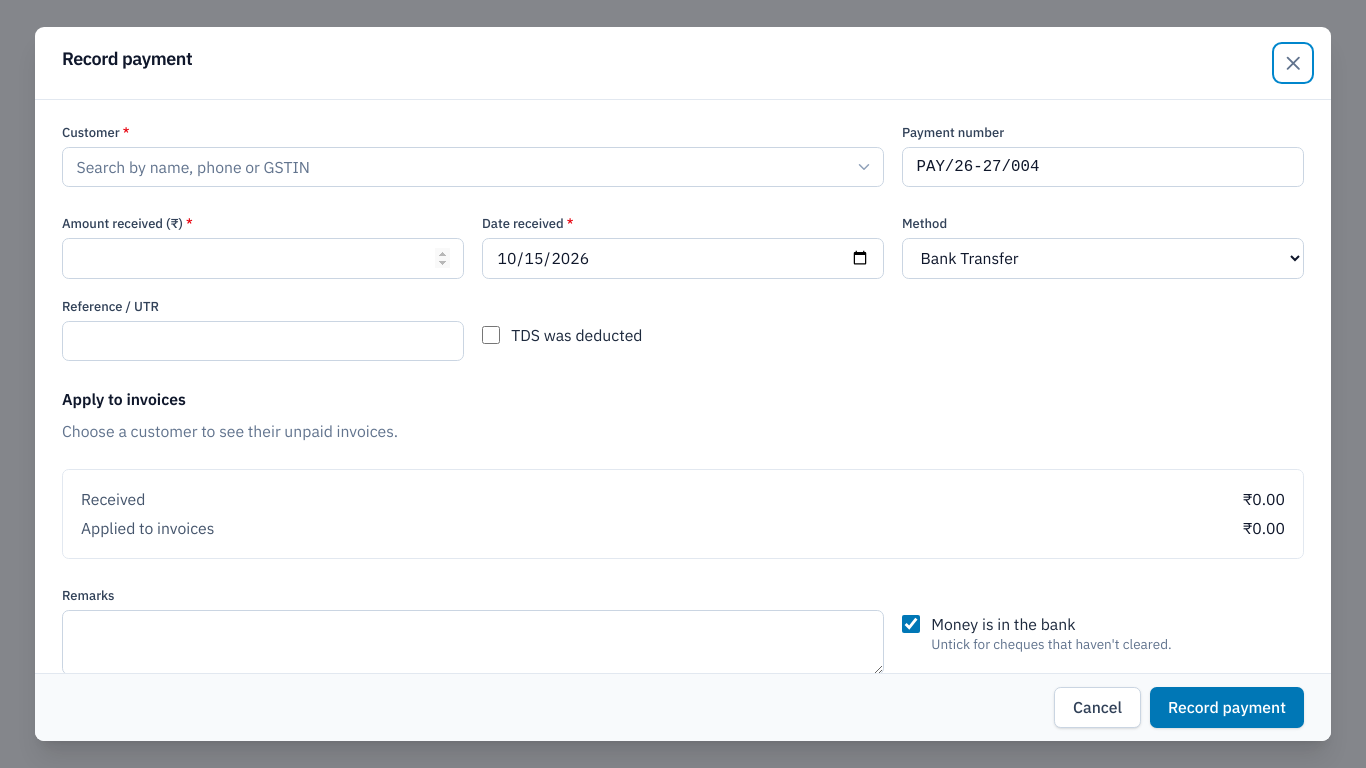
Scenario: recording a payment › lists the customer's unpaid invoices with their balances
Click the dropdown named "Customer" at (473, 167), box [62,146,884,187]
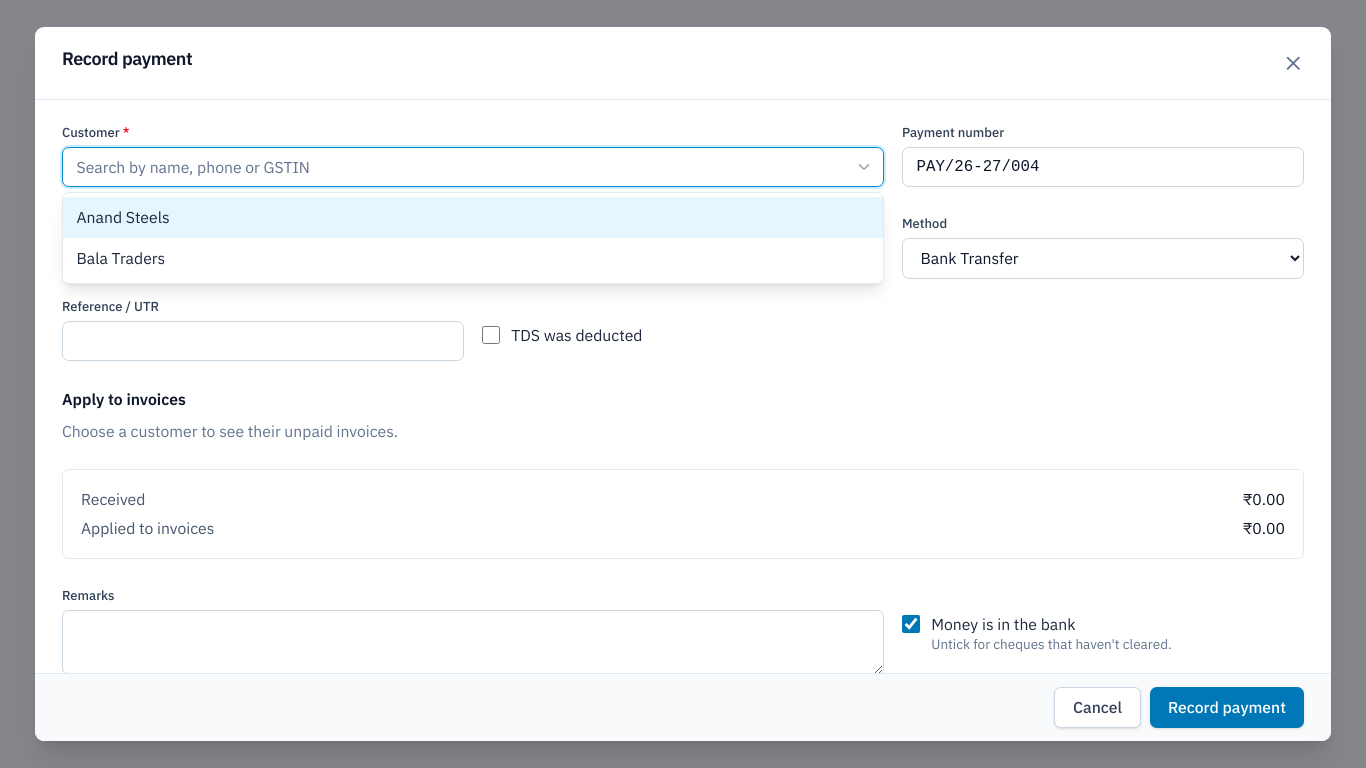
Click the option "Anand Steels" at (123, 217), box [63,197,883,238]
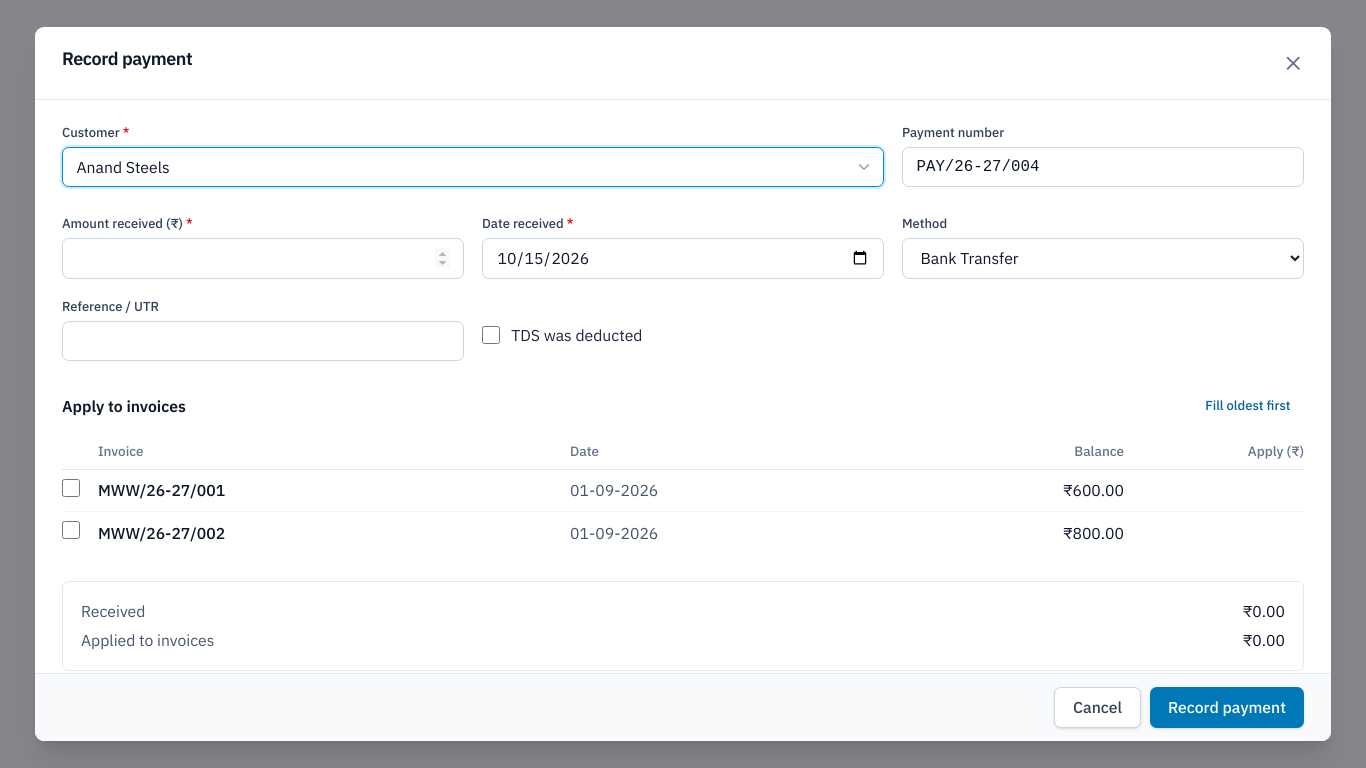
Expected: the text "MWW/26-27/001" is shown, [98,470,570,512]
Expected: the text "₹600.00" is shown, [897,470,1124,512]
Expected: the text "₹800.00" is shown, [897,512,1124,554]
